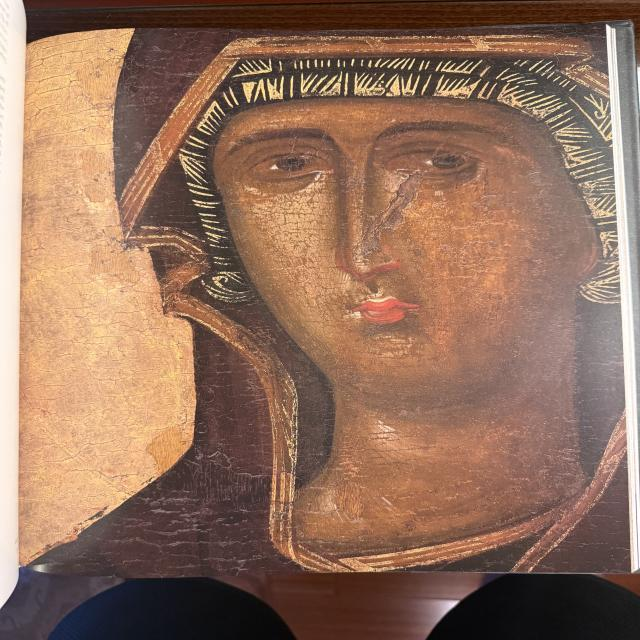mary: (103, 29, 634, 573)
